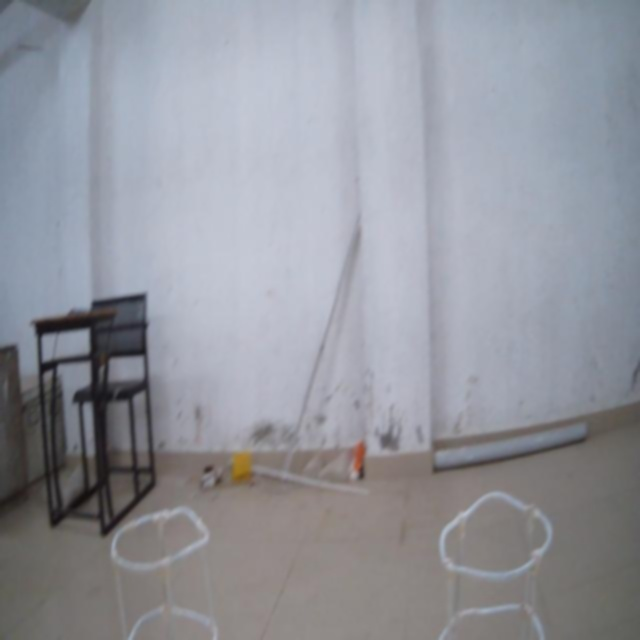silo: (426, 474, 558, 640), (102, 493, 226, 640)
